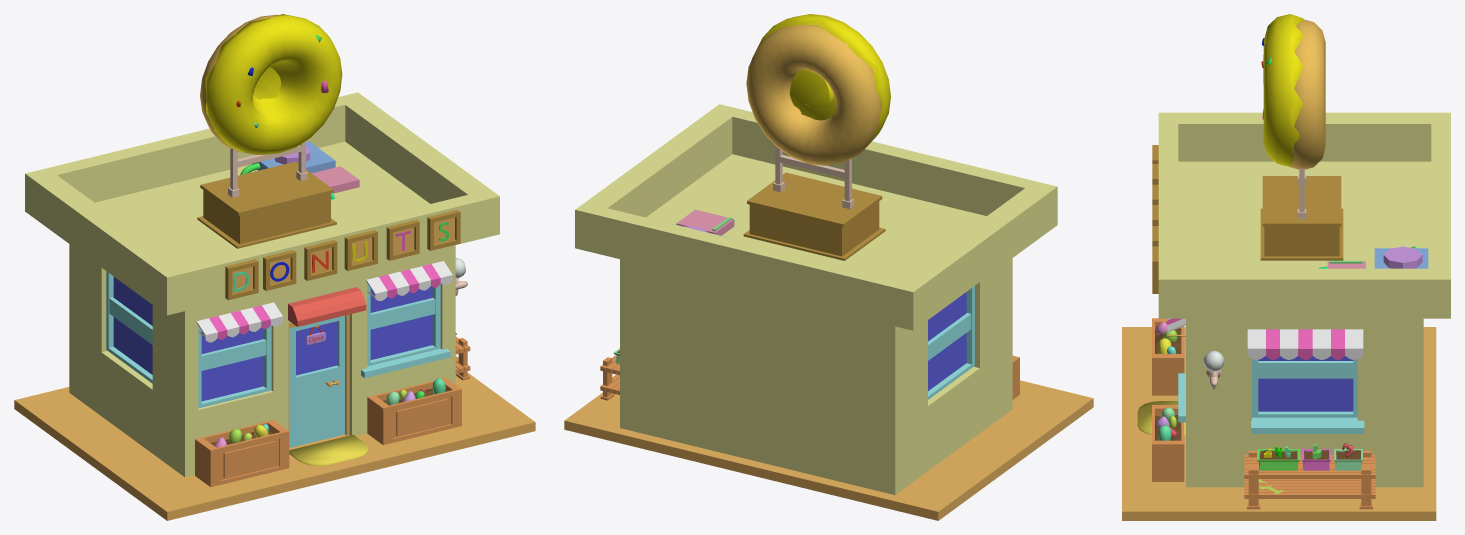
The model's file is donut-shop.fbx.
3 renders of one model, left to right at view 1: azimuth 30°, elevation 25°; view 2: azimuth 150°, elevation 25°; view 3: azimuth 270°, elevation 25°, orthographic. The views are drawn at different scales.
Parts seen in each view (by area): view 1: Shop; view 2: Shop; view 3: Shop.
Part boxes in pixels (box(x1,y1,x2,y2)): Shop: box(14, 14, 535, 520); Shop: box(564, 14, 1093, 520); Shop: box(1122, 14, 1450, 520).
Size of the model in its own units: 1062 by 1096 by 799.
